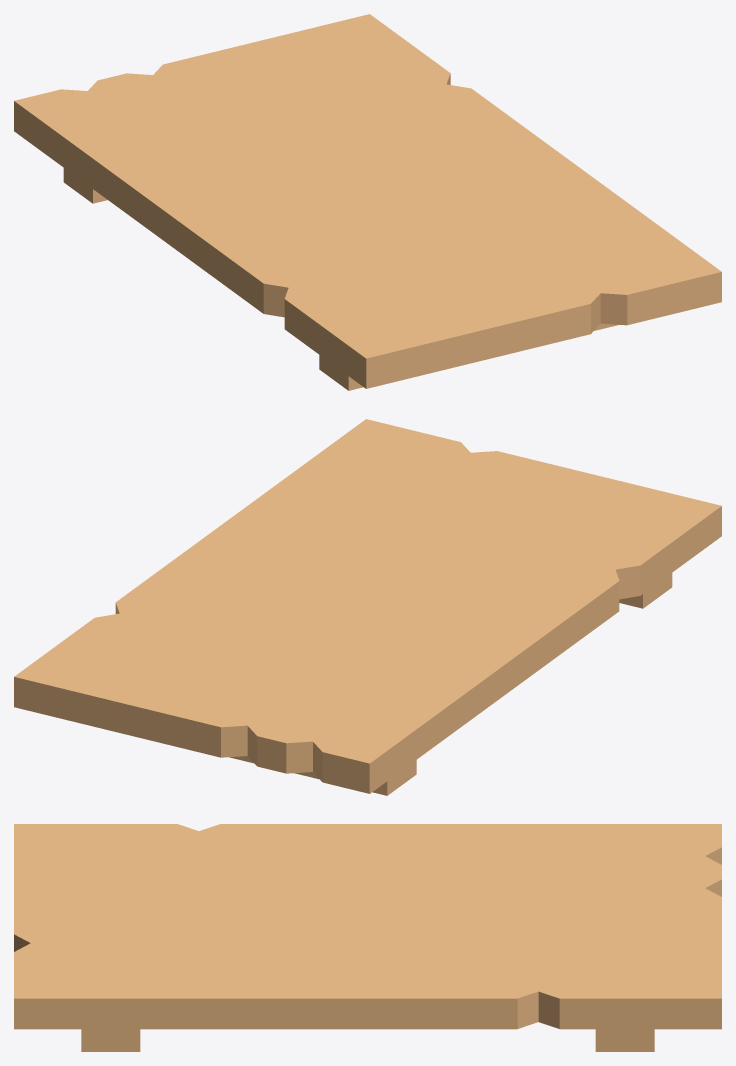
File: cuttingBoardJapanese.dae
The picture shows the model from 3 angles, top to bottom: view 1: azimuth 30°, elevation 25°; view 2: azimuth 150°, elevation 25°; view 3: azimuth 270°, elevation 25°; orthographic projection.
Parts seen in each view (by area): view 1: cuttingBoardJapanese; view 2: cuttingBoardJapanese; view 3: cuttingBoardJapanese.
Part boxes in pixels (left/top/right/bottom): cuttingBoardJapanese: left=14, top=14, right=721, bottom=390; cuttingBoardJapanese: left=14, top=419, right=721, bottom=795; cuttingBoardJapanese: left=14, top=824, right=721, bottom=1051.
Bounding box in the file's own units: 0.49 × 0.08 × 0.84.
